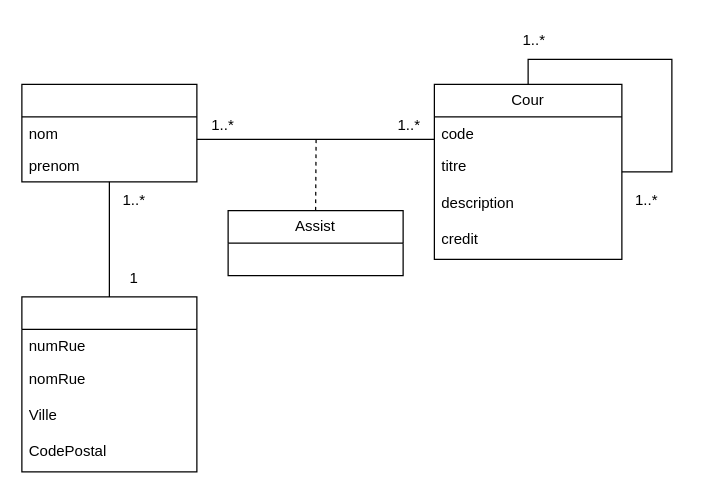
Some shapes in this 706 by 496 pixel diagram are drawn without their labels. Each missing label, with the box of its shape:
Adresse: (21, 296, 197, 472)
Etudiant: (21, 83, 197, 182)
